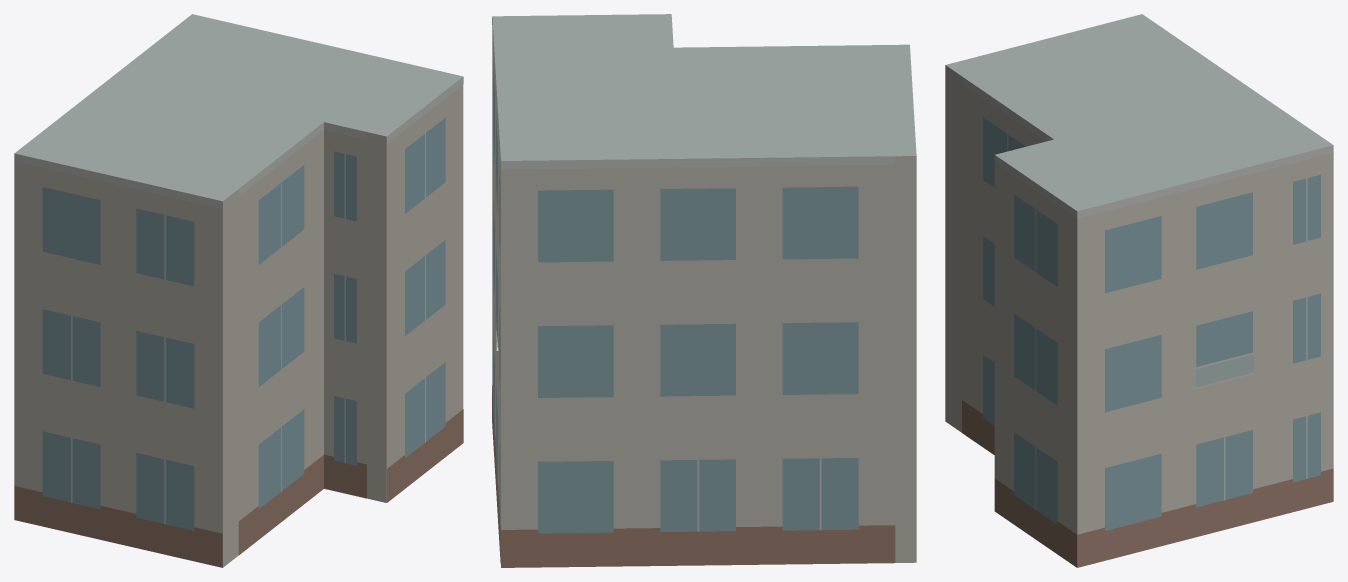
The model's file is survey-upis-32617229.glb.
The picture shows the model from 3 angles, left to right: view 1: azimuth 30°, elevation 25°; view 2: azimuth 150°, elevation 25°; view 3: azimuth 270°, elevation 25°; orthographic projection. The views are drawn at different scales.
Visible parts, largest first — view 1: survey-upis-32617229.tmp; view 2: survey-upis-32617229.tmp; view 3: survey-upis-32617229.tmp.
Boxes of the visible parts, x1,y1,x2,y2 form: survey-upis-32617229.tmp: [14, 14, 463, 567]; survey-upis-32617229.tmp: [492, 14, 916, 567]; survey-upis-32617229.tmp: [945, 14, 1333, 567].
Size of the model in its own units: 13.78 by 11.6 by 11.46.
